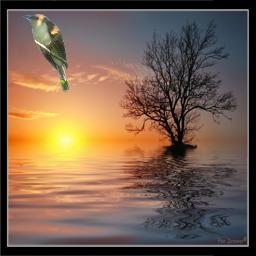Cuckoo: (21, 13, 71, 95)
